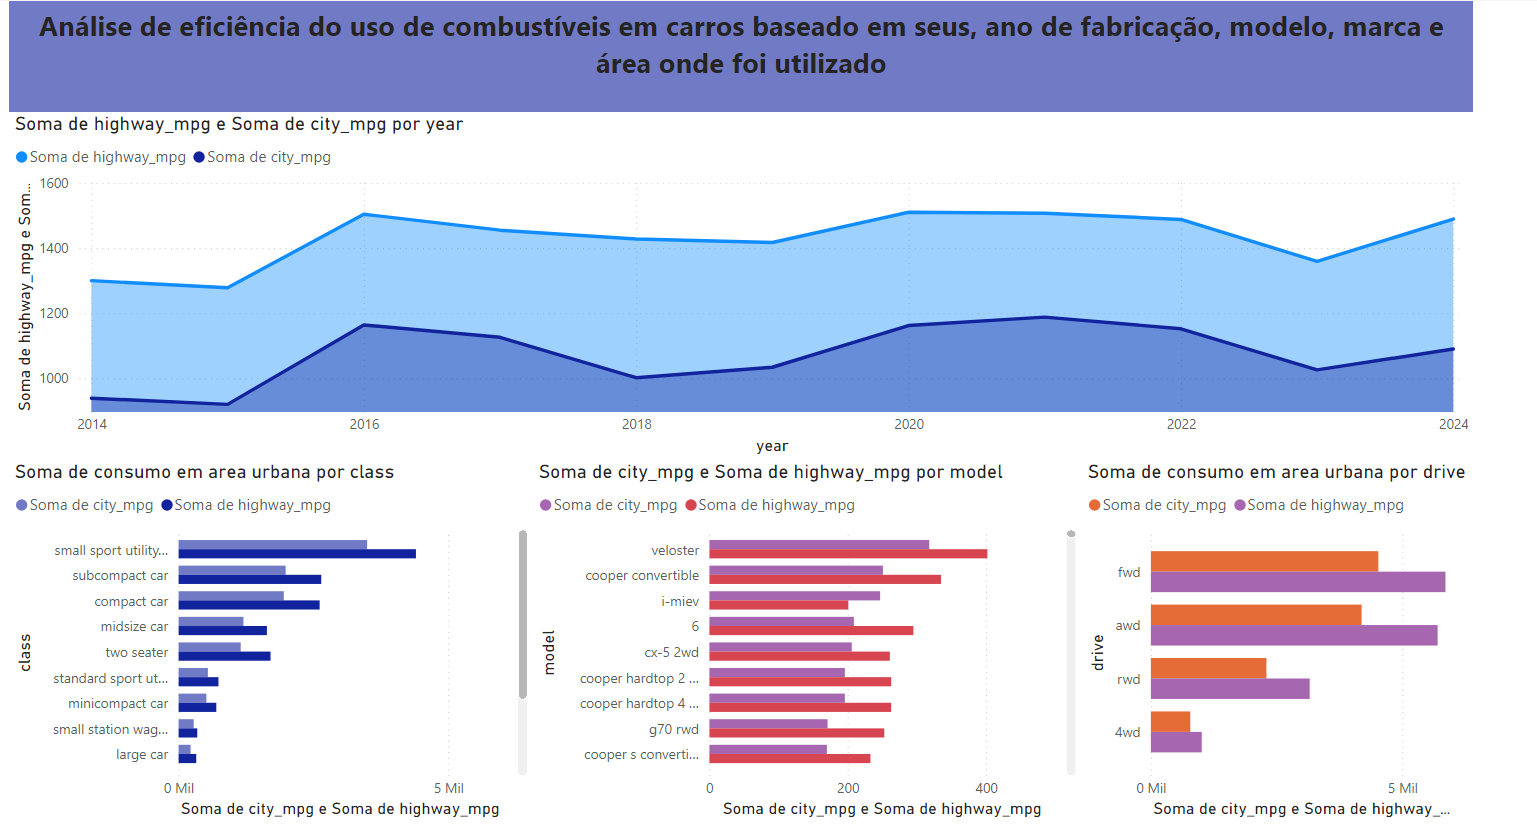

What the dashboard file says about the page in this screenshot:
{"tool":"powerbi","page":{"name":"Página 1","canvas":[1280,720],"ordinal":0},"visuals":[{"type":"clusteredBarChart","fields":{"Category":["car_data.model"],"Y":["Sum(car_data.city_mpg)","Sum(car_data.highway_mpg)"]},"box":[457.9,401.5,479.3,318],"z":0},{"type":"clusteredBarChart","title":"Soma de consumo em area urbana por class","fields":{"Category":["car_data.class"],"Y":["Sum(car_data.city_mpg)","Sum(car_data.highway_mpg)"]},"box":[0,401.5,457.9,318],"z":1000},{"type":"clusteredBarChart","title":"Soma de consumo em area urbana por drive","fields":{"Category":["car_data.drive"],"Y":["Sum(car_data.city_mpg)","Sum(car_data.highway_mpg)"]},"box":[937.2,401.5,342.8,318],"z":2000},{"type":"textbox","box":[0,0,1280,97.3],"z":3000},{"type":"areaChart","fields":{"Category":["car_data.year"],"Y":["Sum(car_data.highway_mpg)","Sum(car_data.city_mpg)"]},"box":[0,97,1280,304.5],"z":4000}]}

Visuals, with their boxes on the page's 1280x720 design canvas (x1, y1, x2, y2). These are canvas units, not pixel positions in the 1537x825 screenshot, which may show the page scaled, cropped or inside an application window:
clusteredBarChart - car_data.model x Sum(car_data.city_mpg): locate(458, 402, 937, 720)
"Soma de consumo em area urbana por class" clusteredBarChart: locate(0, 402, 458, 720)
"Soma de consumo em area urbana por drive" clusteredBarChart: locate(937, 402, 1280, 720)
textbox: locate(0, 0, 1280, 97)
areaChart - car_data.year x Sum(car_data.highway_mpg): locate(0, 97, 1280, 402)
